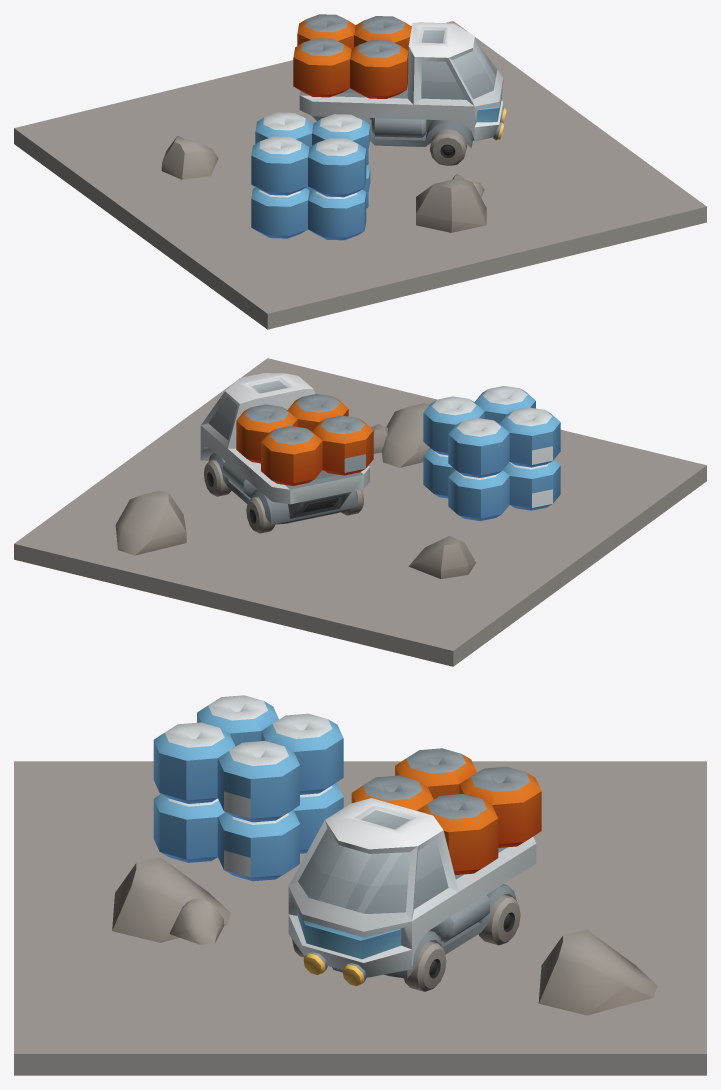
Rendered from space_truck_small.glb.
The picture shows the model from 3 angles, top to bottom: view 1: azimuth 30°, elevation 25°; view 2: azimuth 150°, elevation 25°; view 3: azimuth 270°, elevation 25°; orthographic projection. The views are drawn at different scales.
Parts seen in each view (by area): view 1: Spacetruck_Small; view 2: Spacetruck_Small; view 3: Spacetruck_Small.
Boxes of the visible parts, bbox=[...] form: Spacetruck_Small: bbox=[14, 14, 706, 329]; Spacetruck_Small: bbox=[14, 358, 706, 666]; Spacetruck_Small: bbox=[14, 695, 706, 1075].
Size of the model in its own units: 0.29 by 0.0767 by 0.29.
Materials: 1 (1 with a texture image).
